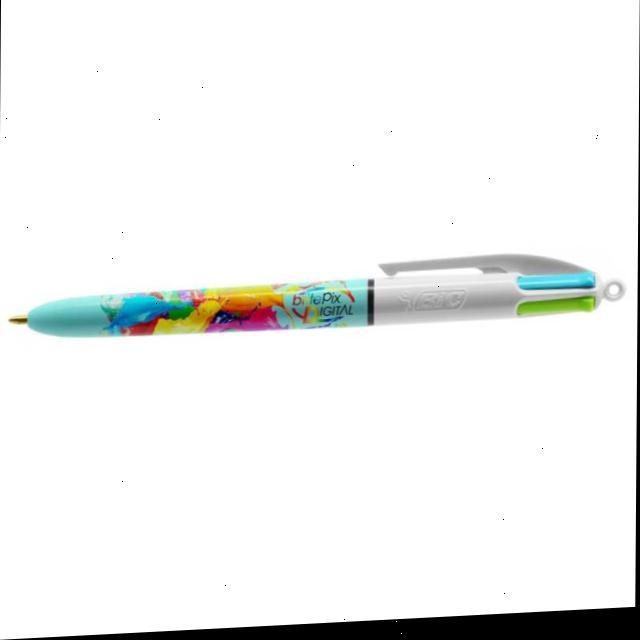pen: (8, 253, 626, 347)
